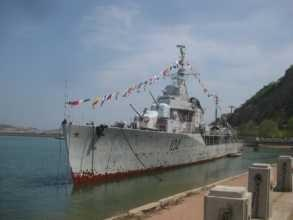warship: (59, 47, 251, 187)
